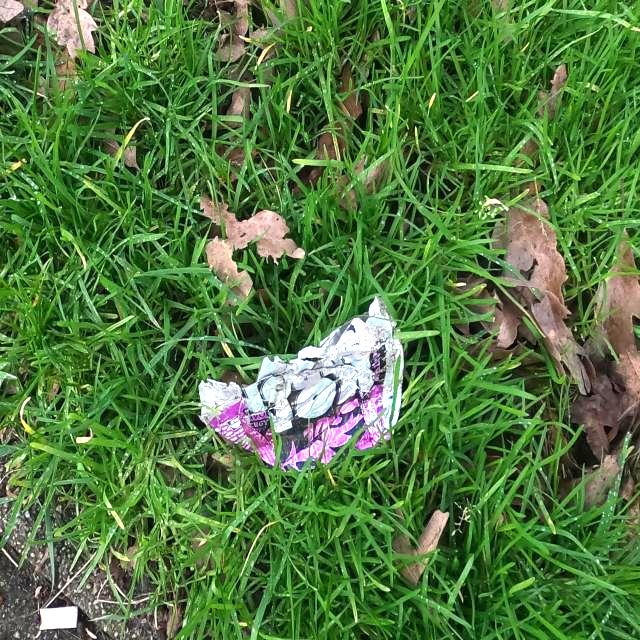Metal: (196, 294, 408, 474)
